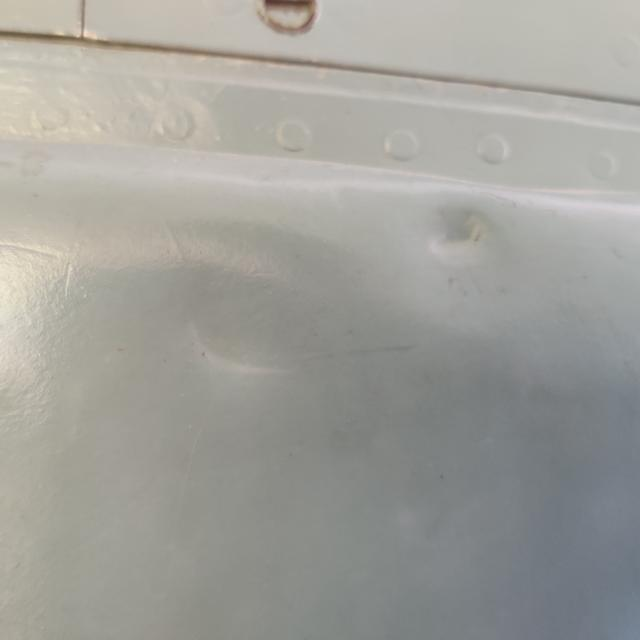dent: (151, 284, 333, 401), (399, 186, 518, 282)
